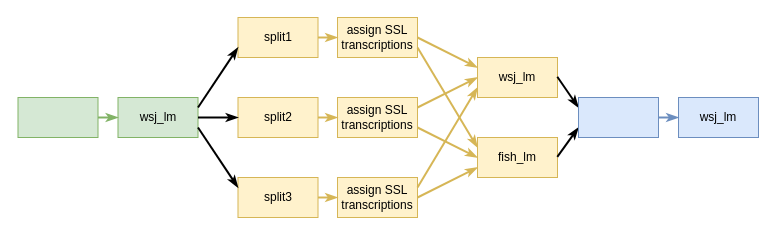
The diagram is 776 pixels wide and 235 high, and some of its shapes have lost their labels. Each missing label, with the box of its shape:
continued training: (578, 96, 658, 138)
supervised training: (17, 96, 98, 138)
